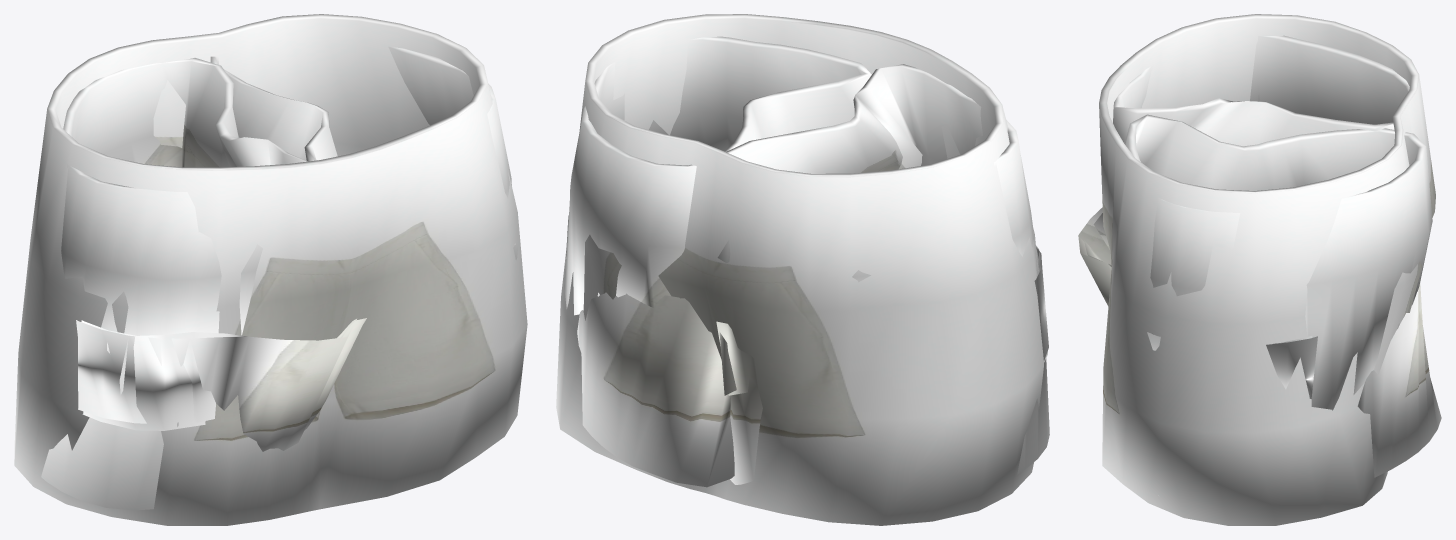
The model's file is ac4eca1c-5799-4af7-8a11-63a3cb0cd5bf.glb.
The picture shows the model from 3 angles, left to right: view 1: azimuth 30°, elevation 25°; view 2: azimuth 150°, elevation 25°; view 3: azimuth 270°, elevation 25°; orthographic projection. The views are drawn at different scales.
Parts seen in each view (by area): view 1: garment_leg0; view 2: garment_leg0; view 3: garment_leg0.
Part boxes in pixels (bbox=[...]): garment_leg0: bbox=[14, 14, 527, 525]; garment_leg0: bbox=[556, 14, 1049, 525]; garment_leg0: bbox=[1078, 14, 1441, 525].
Size of the model in its own units: 0.4227 by 0.3242 by 0.3108.
1 material, 1 textured.
